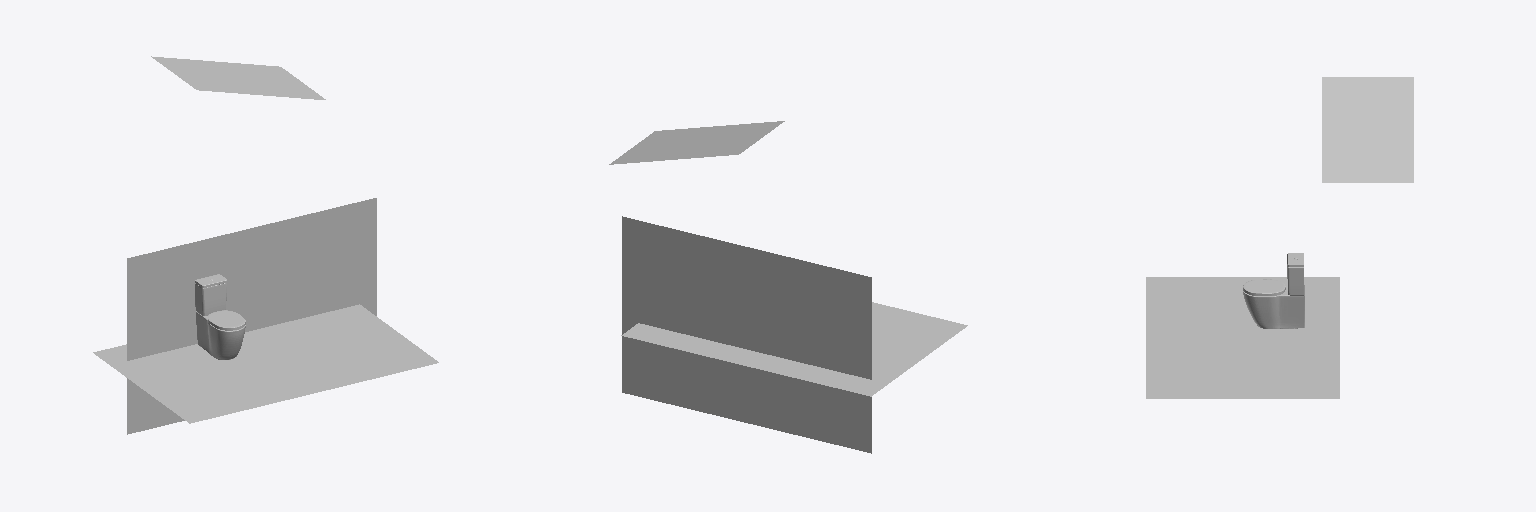
Rendered from TOILET_CONNECT  .obj.
The picture shows the model from 3 angles: view 1: azimuth 30°, elevation 25°; view 2: azimuth 150°, elevation 25°; view 3: azimuth 270°, elevation 25°; orthographic projection.
Parts seen in each view (by area): view 1: Plane.002_Plane.005, Plane_Plane.003, Plane.001_Plane.002, INODORO_Cylinder.008, Cube_Cube.002, bide.000_Cylinder.009; view 2: Plane.002_Plane.005, Plane_Plane.003, Plane.001_Plane.002; view 3: Plane_Plane.003, Plane.001_Plane.002, INODORO_Cylinder.008, bide.000_Cylinder.009.
Part boxes in pixels (bbox=[...]): Plane.002_Plane.005: bbox=[127, 198, 376, 434]; Plane_Plane.003: bbox=[93, 304, 438, 423]; Plane.001_Plane.002: bbox=[151, 56, 325, 99]; INODORO_Cylinder.008: bbox=[196, 311, 245, 359]; Cube_Cube.002: bbox=[195, 283, 226, 315]; bide.000_Cylinder.009: bbox=[208, 310, 245, 330]; Plane.002_Plane.005: bbox=[622, 216, 871, 453]; Plane_Plane.003: bbox=[621, 302, 967, 396]; Plane.001_Plane.002: bbox=[609, 121, 784, 164]; Plane_Plane.003: bbox=[1146, 277, 1339, 398]; Plane.001_Plane.002: bbox=[1322, 77, 1413, 182]; INODORO_Cylinder.008: bbox=[1243, 285, 1304, 328]; bide.000_Cylinder.009: bbox=[1243, 279, 1285, 295].
Size of the model in its own units: 3.32 by 3.8 by 2.89.